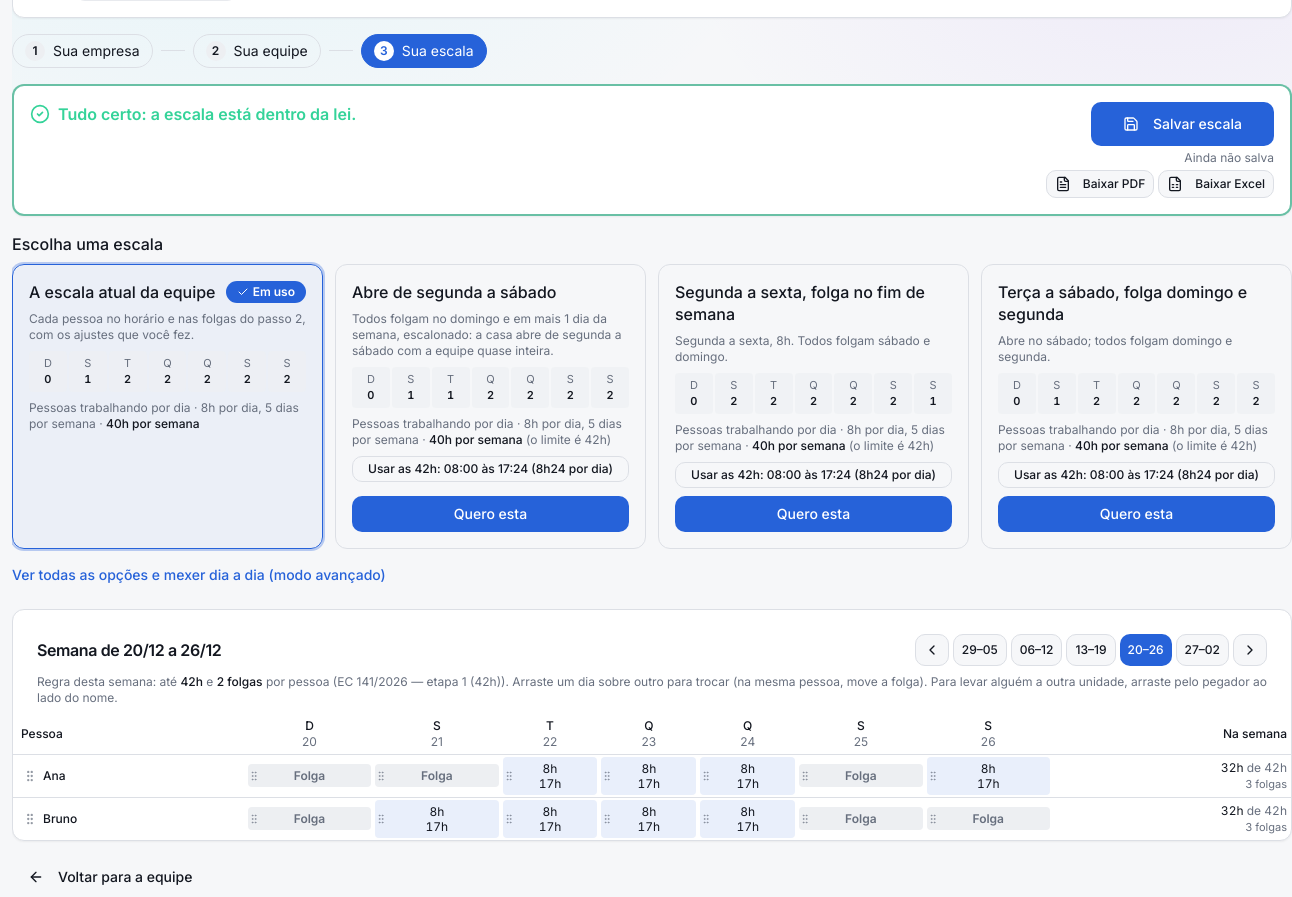
Test: caminho guiado na tela › com acordo coletivo oferece usar as 42h e mostra as horas da semana
(page scrolled)
Expected: the heading "Escolha uma escala" is shown, left=12, top=234, right=163, bottom=254
Expected: the text "40h por semana" below "A escala atual da equipe" is shown, left=106, top=416, right=200, bottom=430
Click the 1st button "Usar as 42h: 08:00 às 17:24 (8h24 por dia)": (490, 468) left=352, top=456, right=629, bottom=482
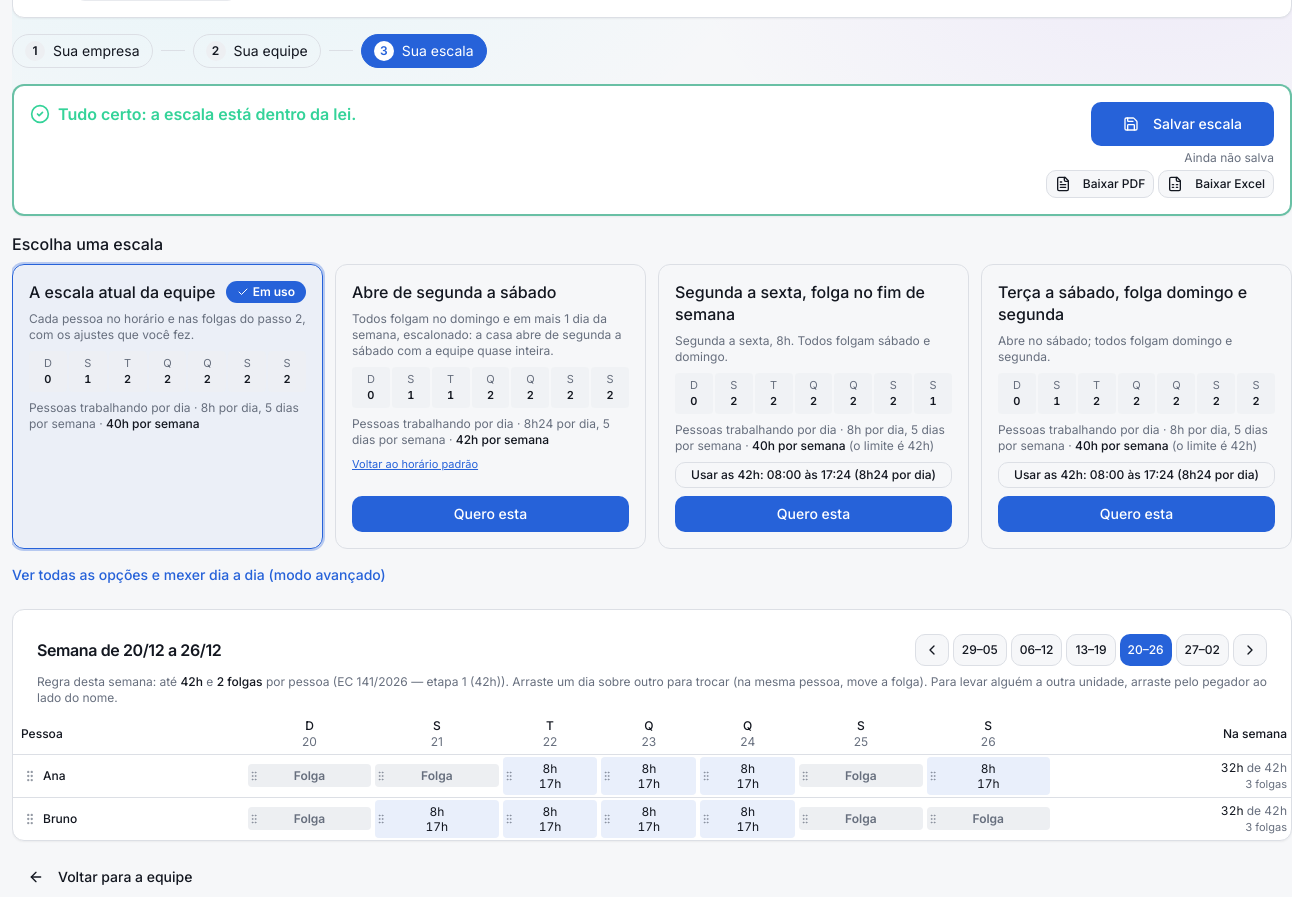
Expected: the button "Voltar ao horário padrão" is shown, left=352, top=456, right=478, bottom=472
